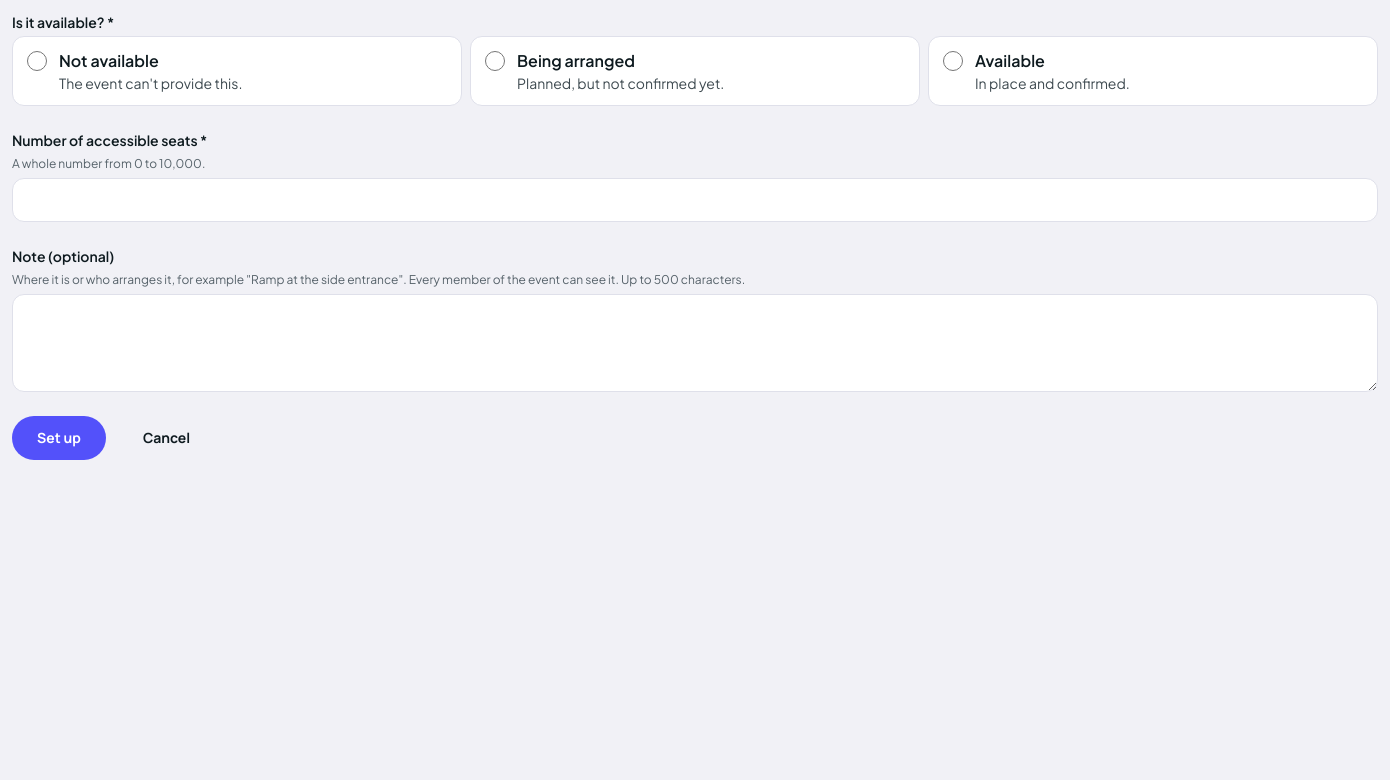
Scenario: ResourceForm › shows the server's errors beside the fields and in a summary
The width and height of the screenshot is (1390, 780).
Click the button "Set up": (59, 438) [12, 416, 106, 460]
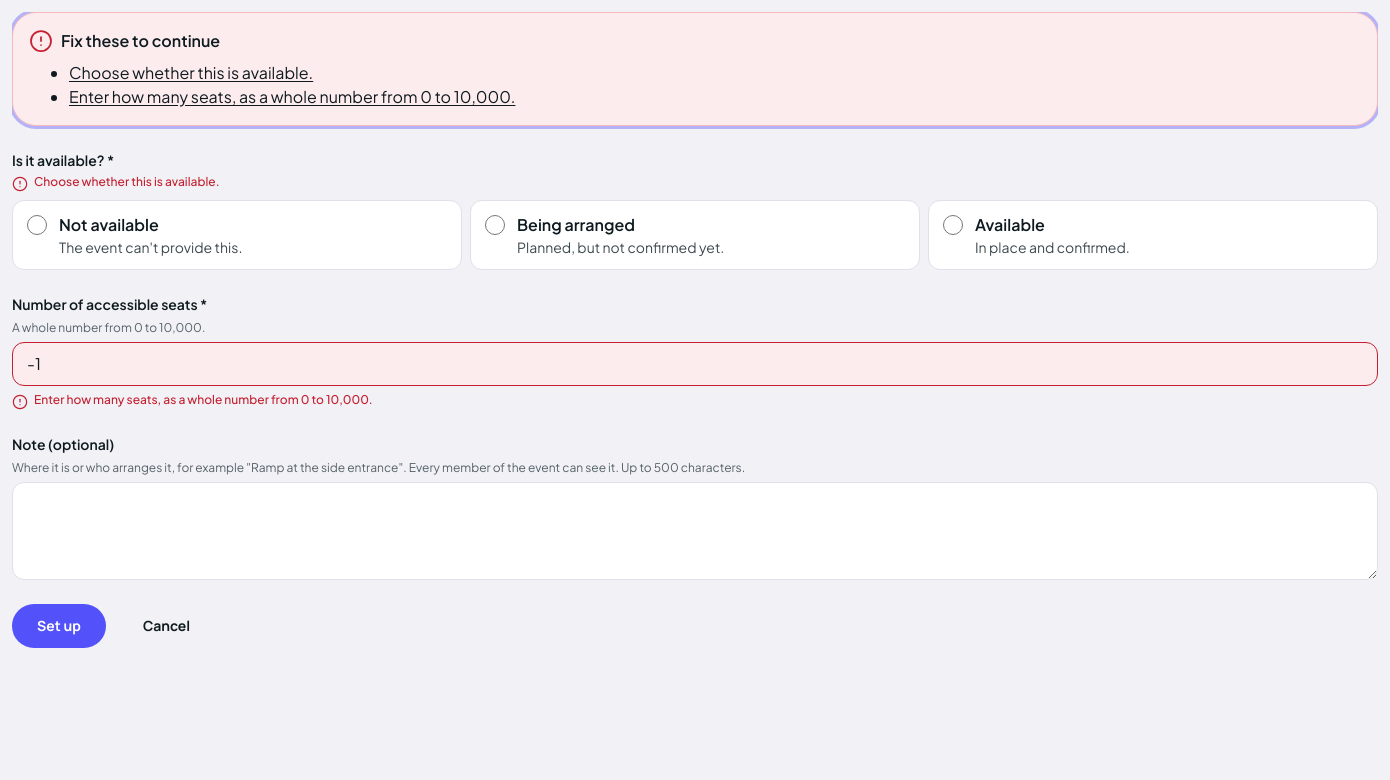
Expected: the number field labelled "Number of accessible seats *" holds "-1", [12, 342, 1378, 386]
